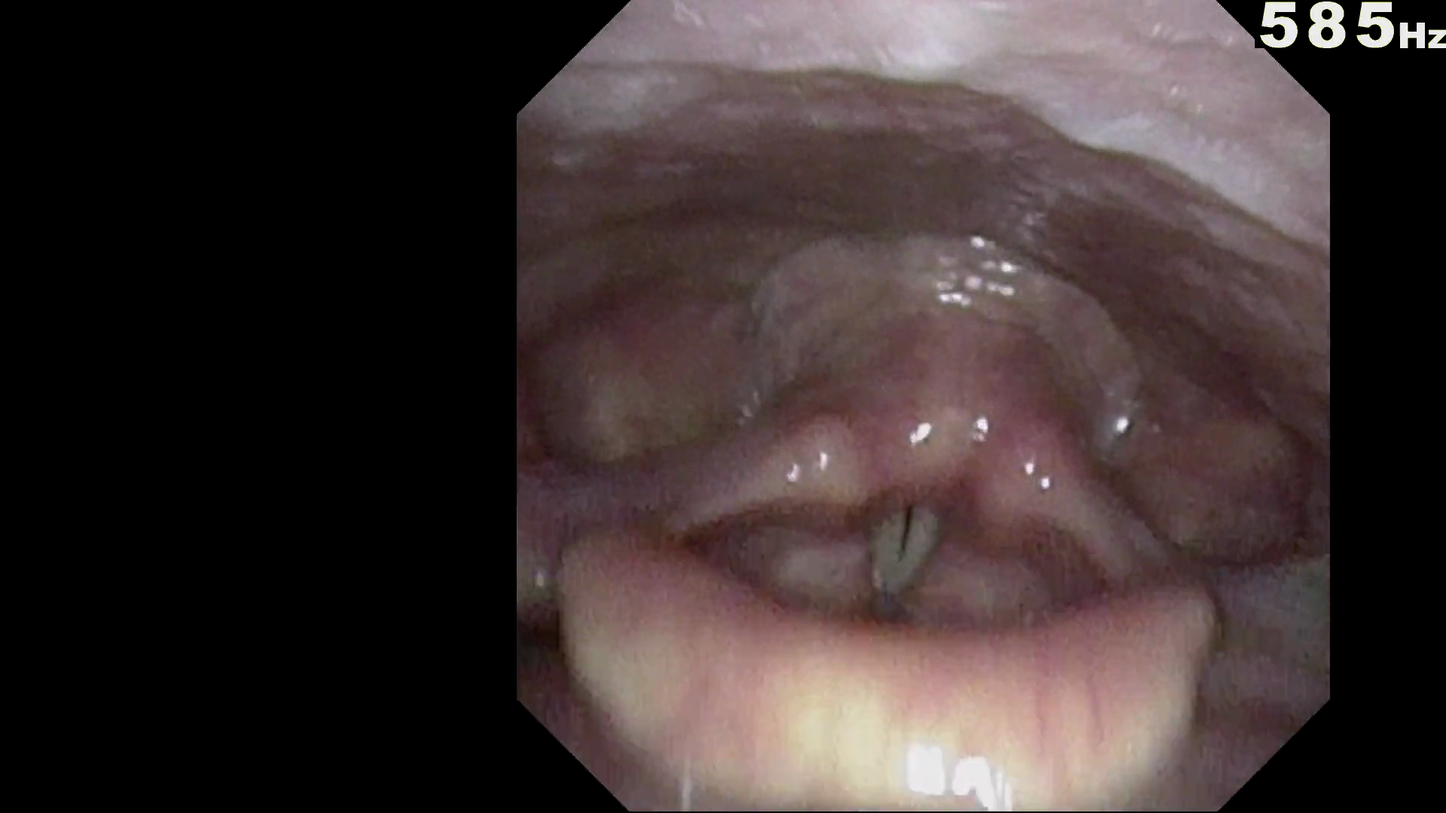epiglottis: (607, 594, 1218, 786)
trachea: (851, 484, 959, 617)
